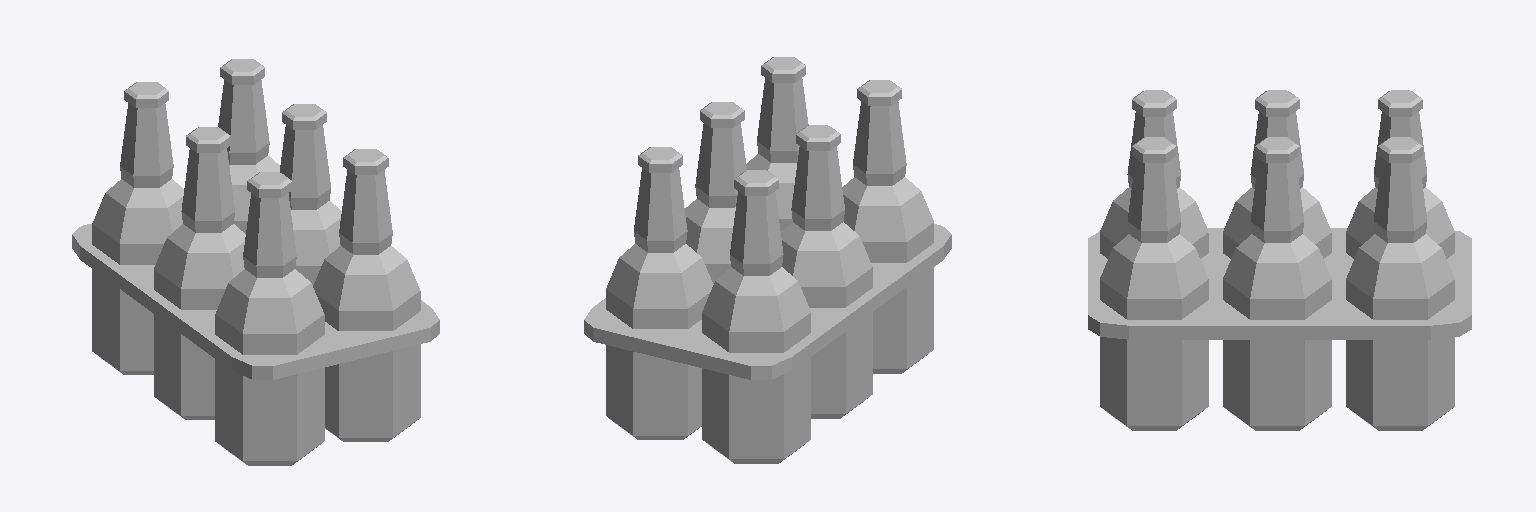
Rendered from SpaceBeer6pack 1.obj.
The picture shows the model from 3 angles: view 1: azimuth 30°, elevation 25°; view 2: azimuth 150°, elevation 25°; view 3: azimuth 270°, elevation 25°; orthographic projection.
Parts seen in each view (by area): view 1: SPACEBEER_Cube.018; view 2: SPACEBEER_Cube.018; view 3: SPACEBEER_Cube.018.
Boxes of the visible parts, <box> form: SPACEBEER_Cube.018: <box>72,59,439,465</box>; SPACEBEER_Cube.018: <box>584,57,951,463</box>; SPACEBEER_Cube.018: <box>1088,90,1471,430</box>.
Size of the model in its own units: 0.3387 by 0.4371 by 0.561.